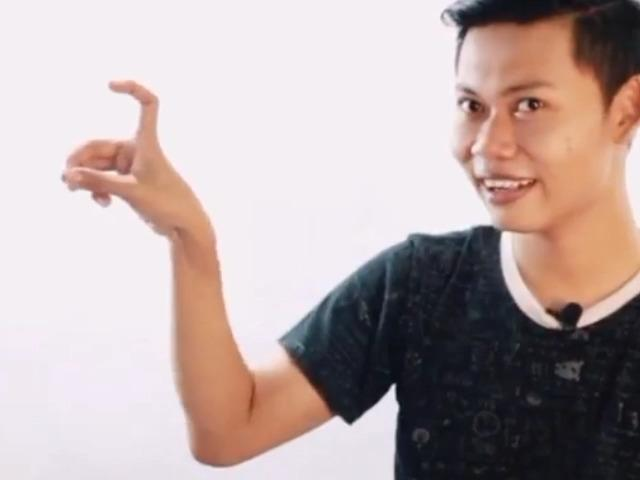X: (59, 74, 198, 230)
